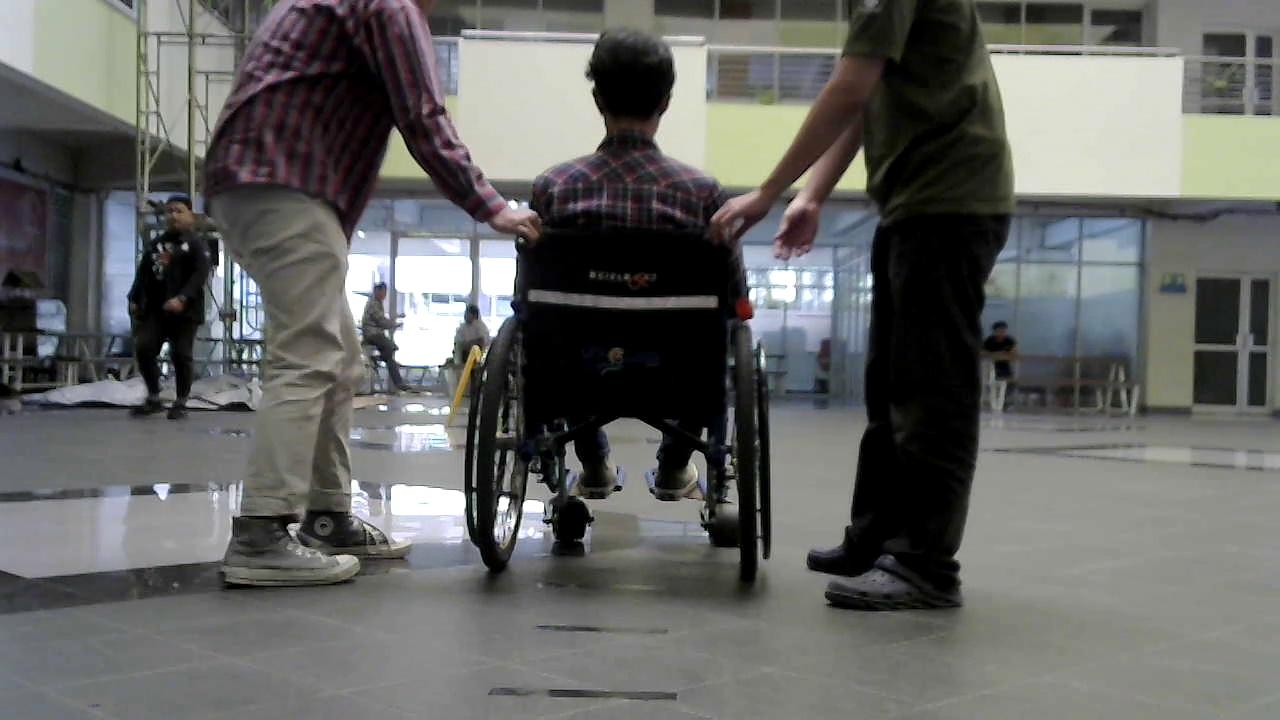person: (199, 1, 538, 590), (708, 3, 1018, 612), (500, 29, 749, 515), (127, 196, 219, 420), (441, 300, 491, 448), (360, 279, 404, 393), (981, 320, 1019, 414)
wheelchair: (459, 222, 793, 605)
